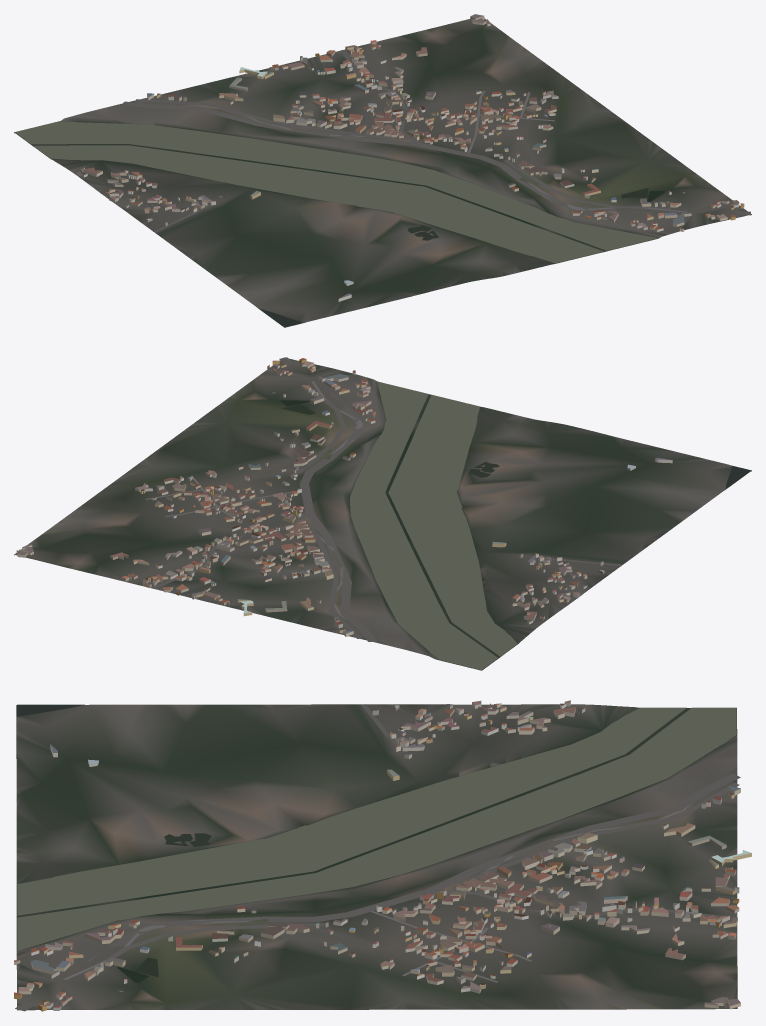
3 views of the same model, one above another, from view 1: azimuth 30°, elevation 25°; view 2: azimuth 150°, elevation 25°; view 3: azimuth 270°, elevation 25° (orthographic). The views are drawn at different scales.
Visible parts, largest first — view 1: ground, water, buildings, roads; view 2: ground, water, buildings, roads; view 3: ground, water, buildings, roads.
Boxes of the visible parts, x1=… form: ground: x1=14, y1=19, x2=751, y2=327; water: x1=15, y1=122, x2=664, y2=327; buildings: x1=77, y1=14, x2=744, y2=301; roads: x1=121, y1=49, x2=750, y2=232; ground: x1=14, y1=357, x2=751, y2=670; water: x1=280, y1=381, x2=750, y2=670; buildings: x1=16, y1=358, x2=672, y2=636; roads: x1=146, y1=357, x2=621, y2=641; ground: x1=16, y1=704, x2=737, y2=1010; water: x1=17, y1=704, x2=736, y2=983; buildings: x1=14, y1=700, x2=751, y2=1011; roads: x1=15, y1=704, x2=740, y2=1011.
Size of the model in its own units: 1409 by 22.26 by 1435.
